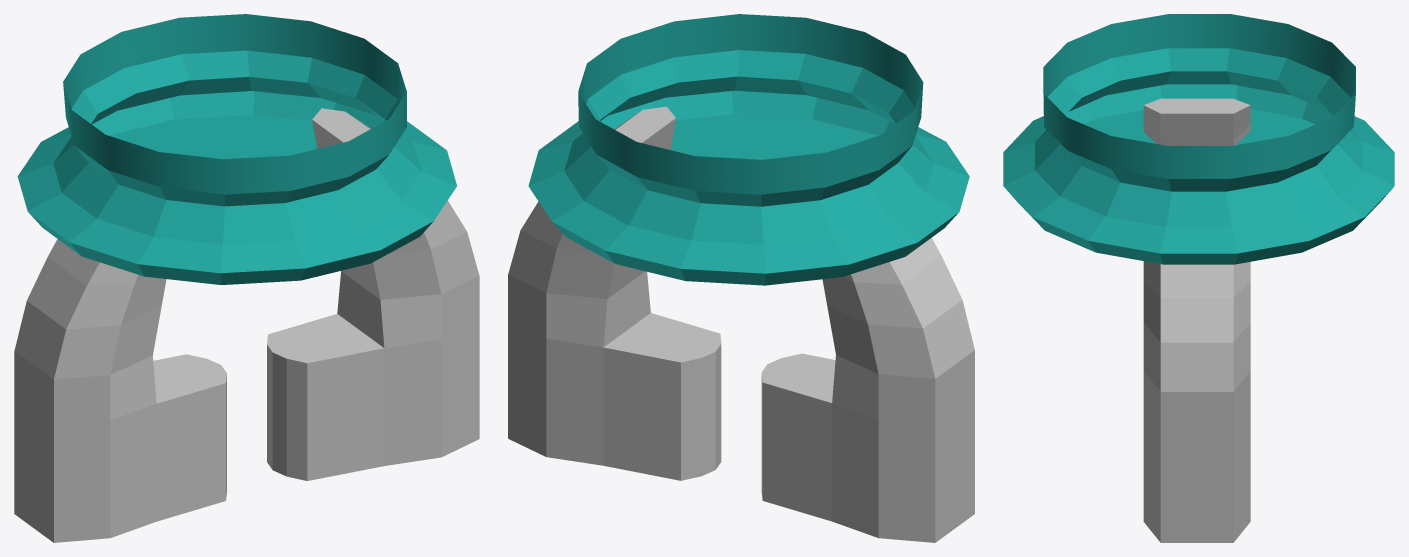
Rendered from Brazo.fbx.
3 views of the same model, side by side, from view 1: azimuth 30°, elevation 25°; view 2: azimuth 150°, elevation 25°; view 3: azimuth 270°, elevation 25° (orthographic). The views are drawn at different scales.
Visible parts, largest first — view 1: BrazoIzq.002; view 2: BrazoIzq.002; view 3: BrazoIzq.002.
Part boxes in pixels (box(x1,y1,x2,y2)): BrazoIzq.002: box(14, 14, 479, 542); BrazoIzq.002: box(508, 14, 974, 542); BrazoIzq.002: box(1003, 14, 1394, 542).
Bounding box in the file's own units: 129 × 114 × 111.
